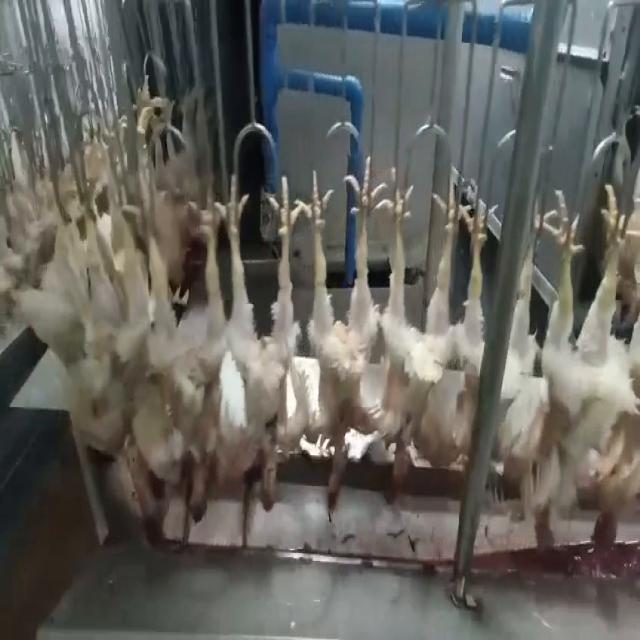chicken: (370, 161, 469, 506), (510, 186, 596, 558), (298, 157, 386, 515), (216, 173, 300, 510), (164, 173, 223, 527), (586, 181, 638, 560), (106, 195, 164, 530)
